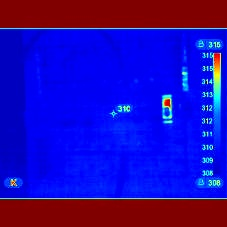Less: (164, 108, 172, 121)
